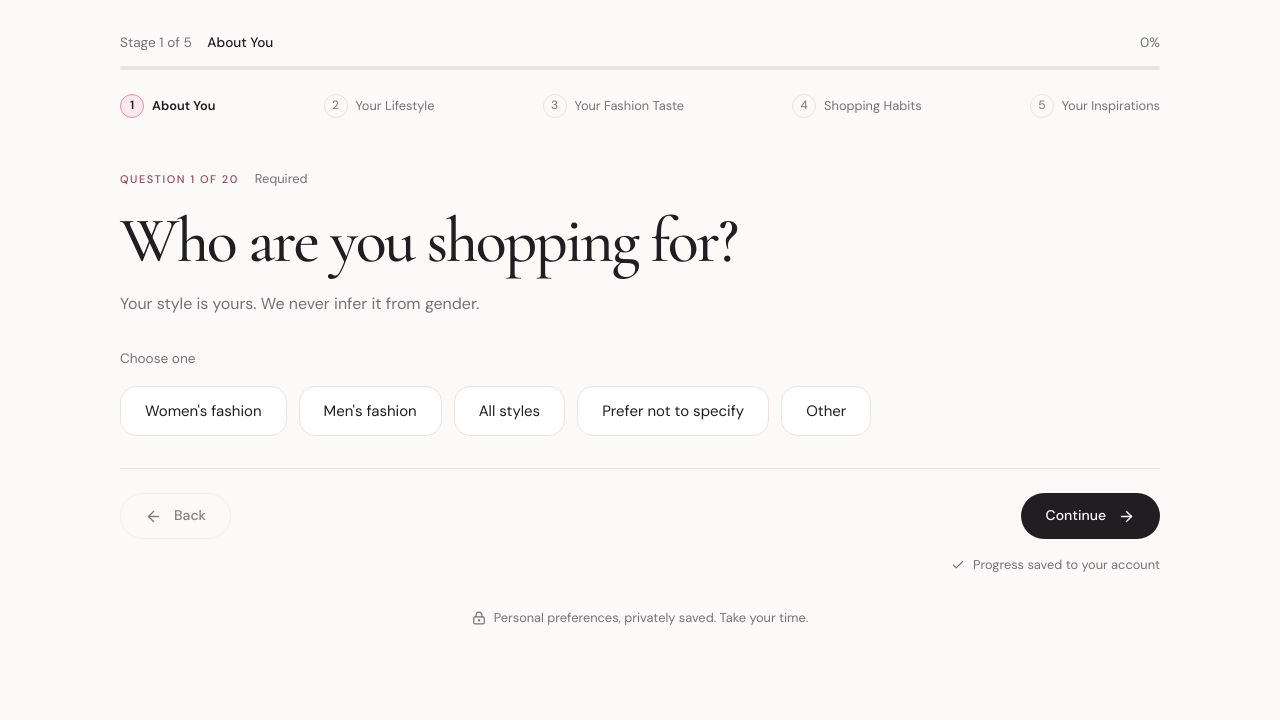
recovers a failed in-flight save using the latest queued answers
Expected: the heading "Who are you shopping for?" is shown, 120,202 -> 737,279
Click the button "Women's fashion".
click(203, 411)  # box 120,386 -> 286,436
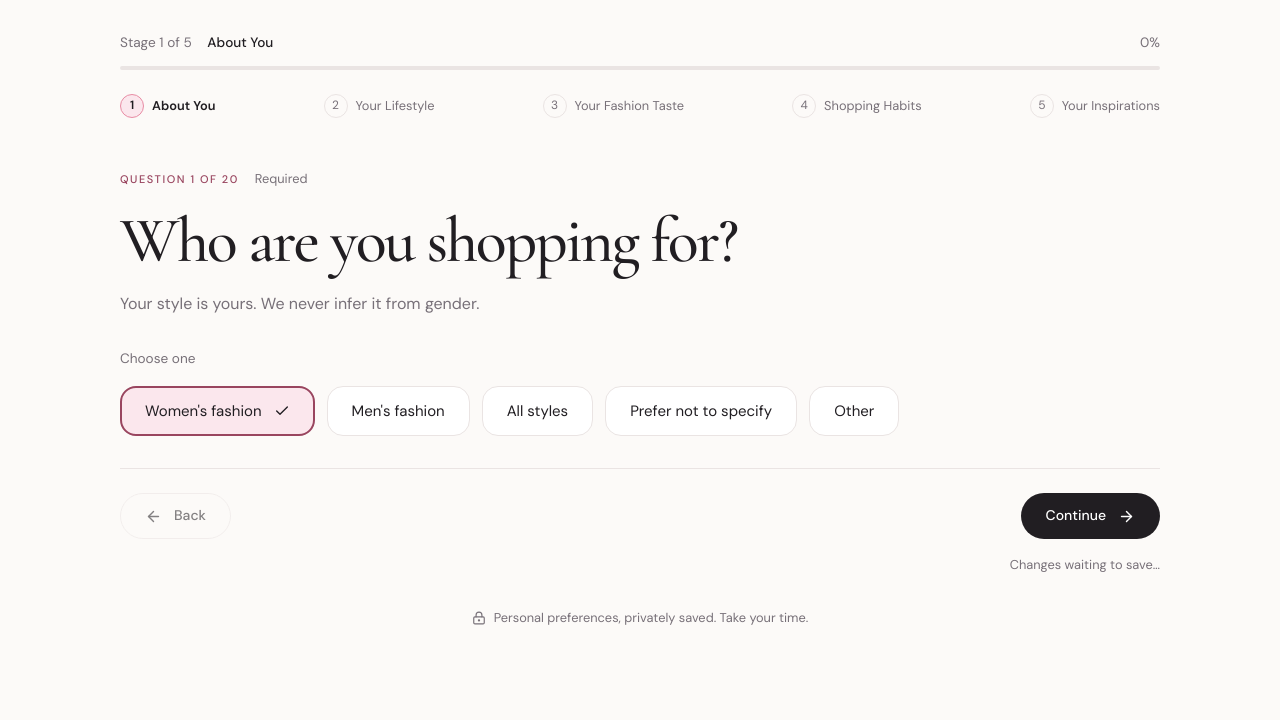
Click the button "Continue".
click(1090, 516)  # box 1020,493 -> 1160,539
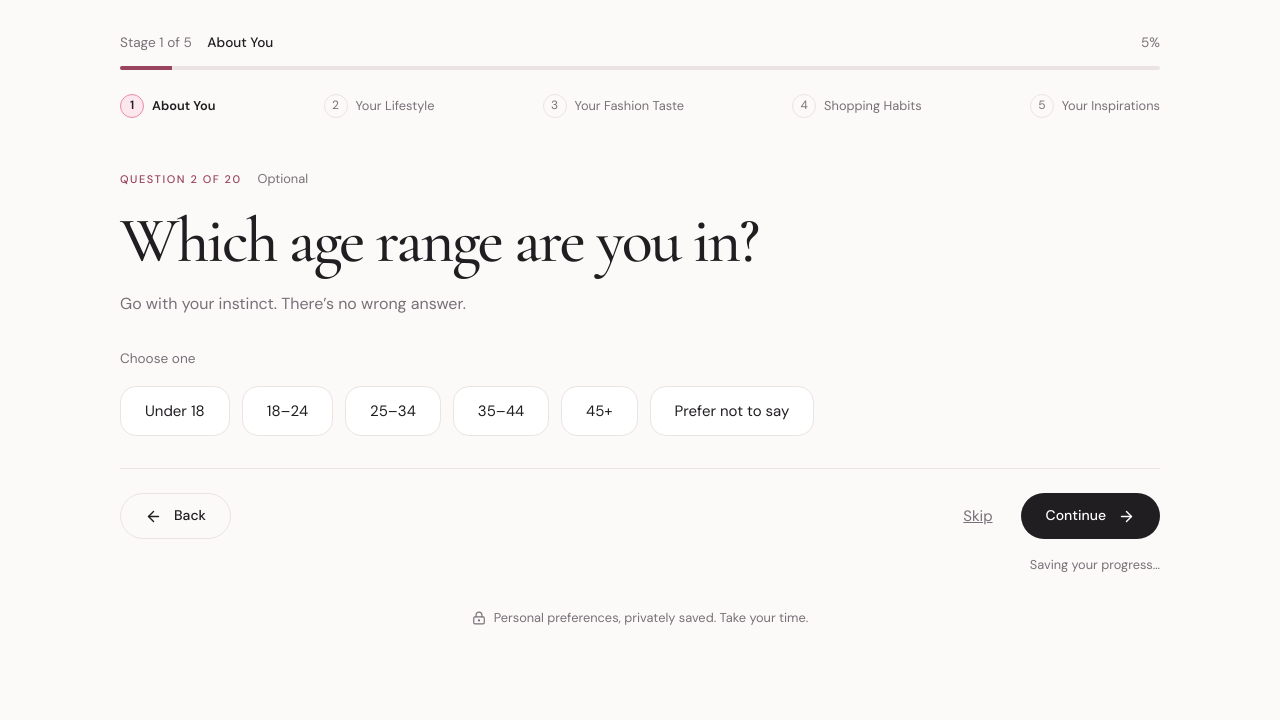
Click the button "18–24".
click(287, 411)  # box 242,386 -> 333,436
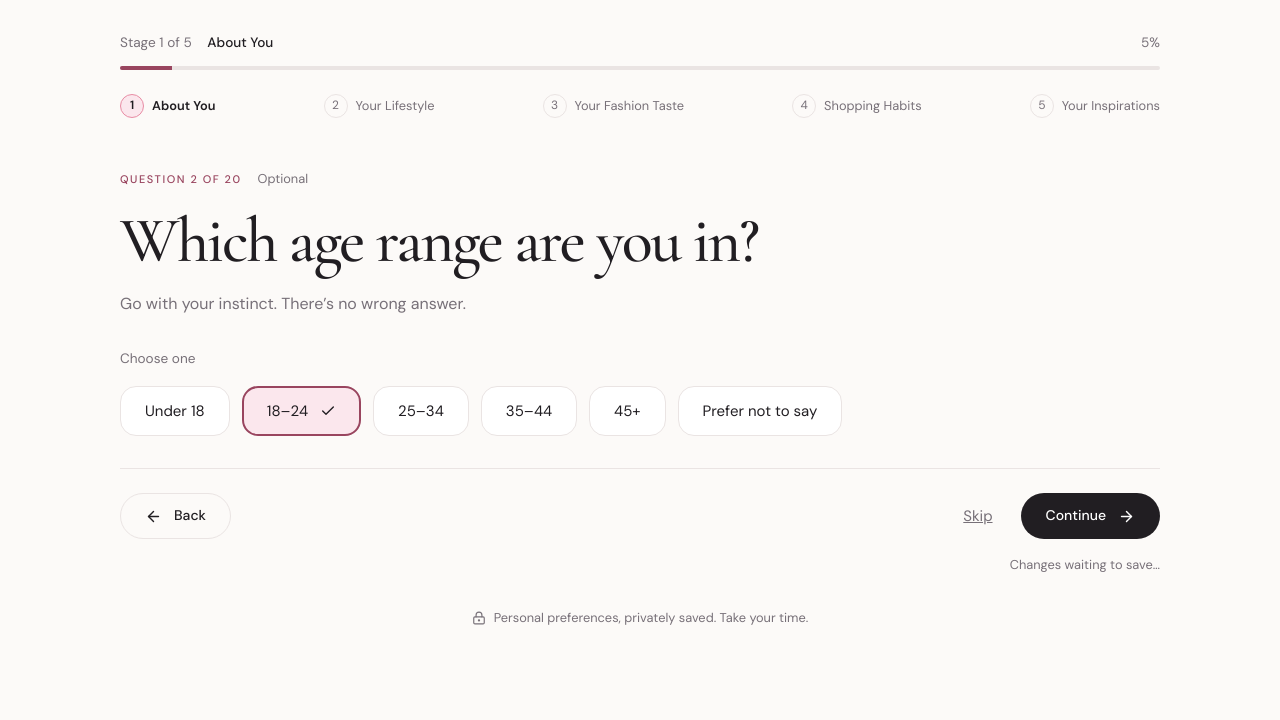
Click the button "Continue".
click(1090, 516)  # box 1020,493 -> 1160,539
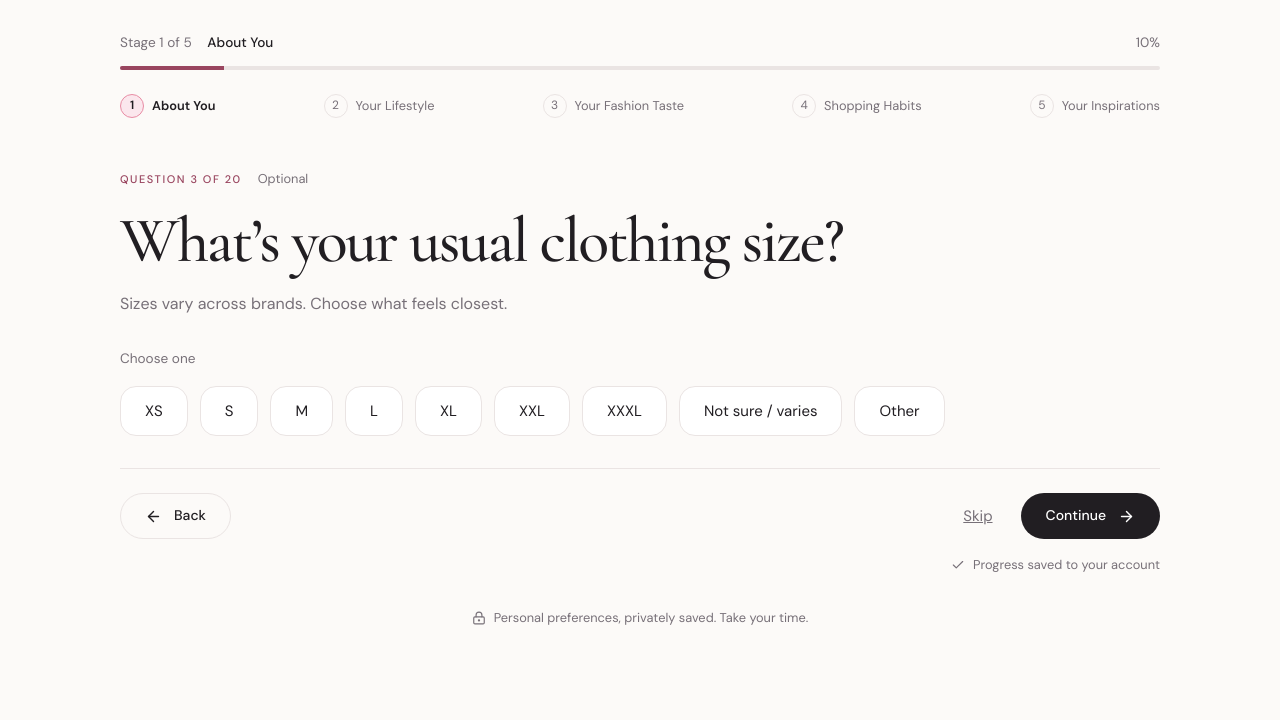
Expected: the heading shows "clothing size", 120,202 -> 843,279
Expected: the text "Progress saved to your account" is shown, 951,556 -> 1160,573
